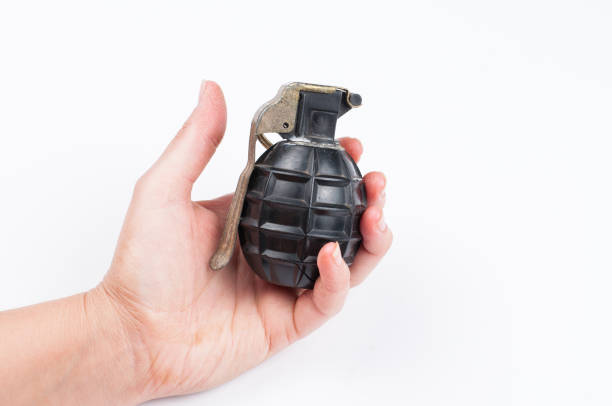e1: (223, 82, 366, 291)
